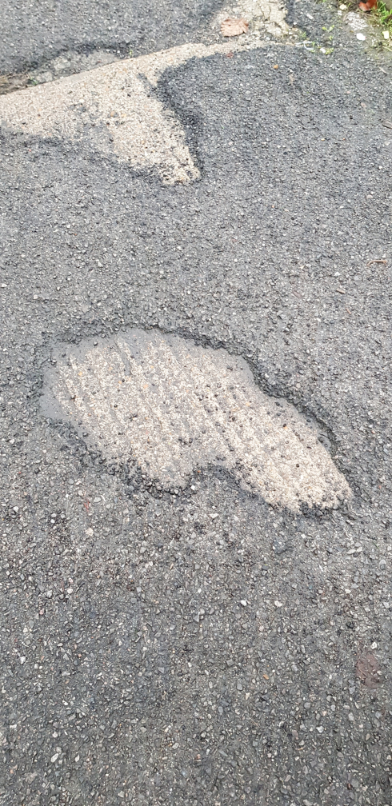pothole: (25, 314, 360, 528), (0, 28, 208, 193), (207, 0, 316, 62)
